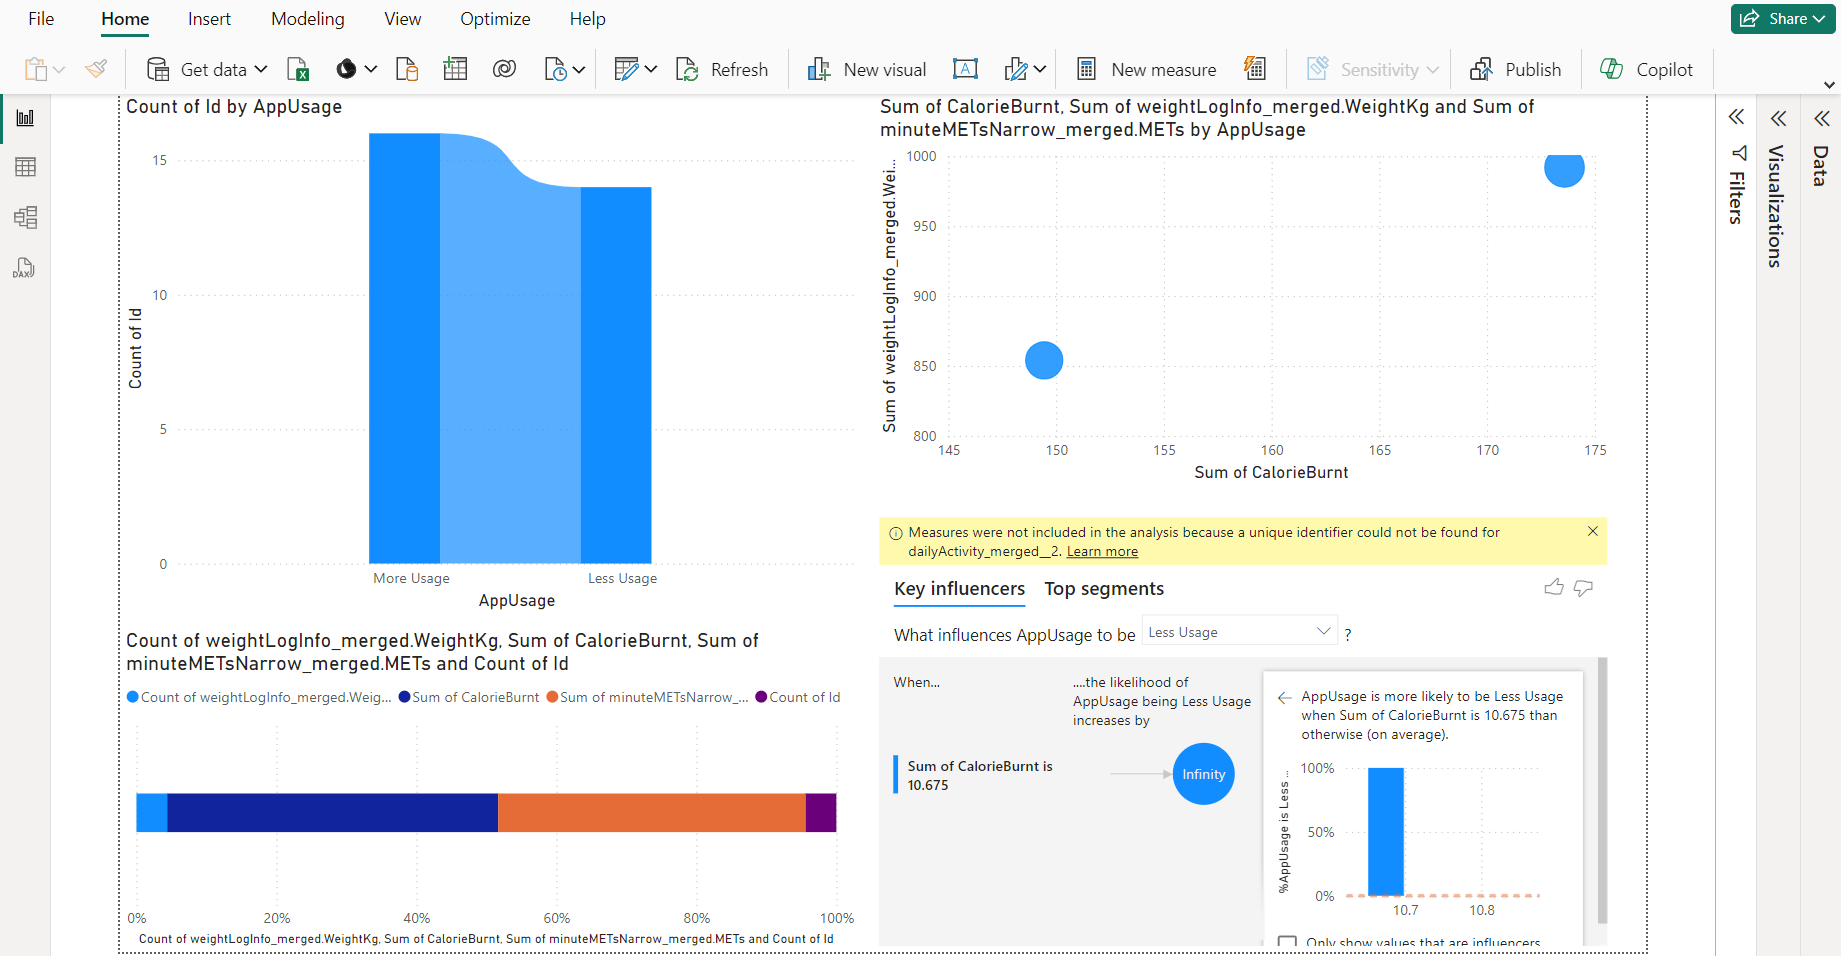

The page's visual inventory and layout, read from the dashboard file:
{"tool":"powerbi","page":{"name":"Page 1","canvas":[1280,720],"ordinal":0},"visuals":[{"type":"ribbonChart","fields":{"Y":["CountNonNull(MoreAttention.Id)"],"Category":["MoreAttention.AppUsage"]},"box":[0,0,621.5,437.8],"z":0},{"type":"hundredPercentStackedBarChart","fields":{"Y":["CountNonNull(dailyActivity_merged__2.weightLogInfo_merged.WeightKg)","Sum(dailyActivity_merged__2.CalorieBurnt)","Sum(dailyActivity_merged__2.minuteMETsNarrow_merged.METs)","CountNonNull(MoreAttention.Id)"]},"box":[0,448,621,272],"z":1000},{"type":"scatterChart","fields":{"Category":["dailyActivity_merged__2.AppUsage"],"X":["Sum(dailyActivity_merged__2.CalorieBurnt)"],"Y":["Sum(dailyActivity_merged__2.weightLogInfo_merged.WeightKg)"],"Size":["Sum(dailyActivity_merged__2.minuteMETsNarrow_merged.METs)"]},"box":[631.7,0,619.8,330.7],"z":2000},{"type":"keyDriversVisual","fields":{"Target":["dailyActivity_merged__2.AppUsage"],"ExplainBy":["Sum(dailyActivity_merged__2.CalorieBurnt)","CountNonNull(MoreAttention.Id)"]},"box":[631.7,350,619.8,369.2],"z":2001}]}

Visuals, with their boxes on the page's 1280x720 design canvas (x1, y1, x2, y2). These are canvas units, not pixel positions in the 1841x956 screenshot, which may show the page scaled, cropped or inside an application window:
ribbonChart - CountNonNull(MoreAttention.Id) x MoreAttention.AppUsage: 0:0:622:438
hundredPercentStackedBarChart - CountNonNull(dailyActivity_merged__2.weightLogInfo_merged.WeightKg) x Sum(dailyActivity_merged__2.CalorieBurnt): 0:448:621:720
scatterChart - dailyActivity_merged__2.AppUsage x Sum(dailyActivity_merged__2.CalorieBurnt): 632:0:1252:331
keyDriversVisual - dailyActivity_merged__2.AppUsage x Sum(dailyActivity_merged__2.CalorieBurnt): 632:350:1252:719
